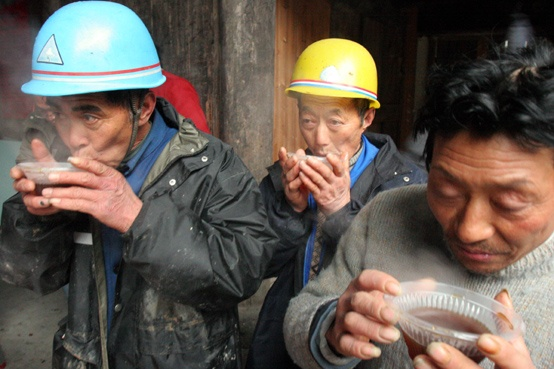blue: (21, 3, 162, 175)
none: (420, 40, 554, 287)
yellow: (287, 39, 382, 158)
